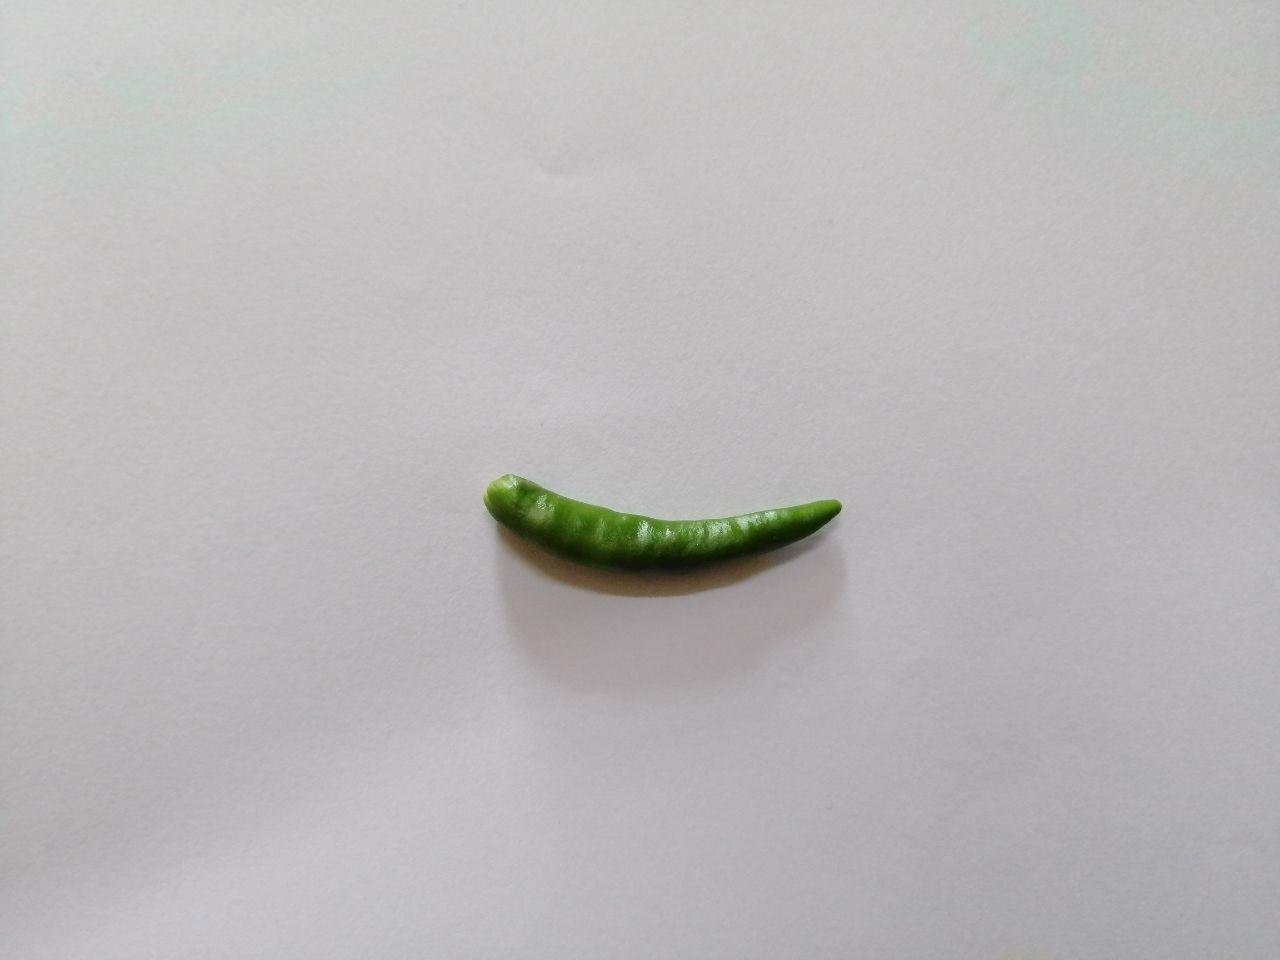lada hijau: (474, 446, 862, 587)
